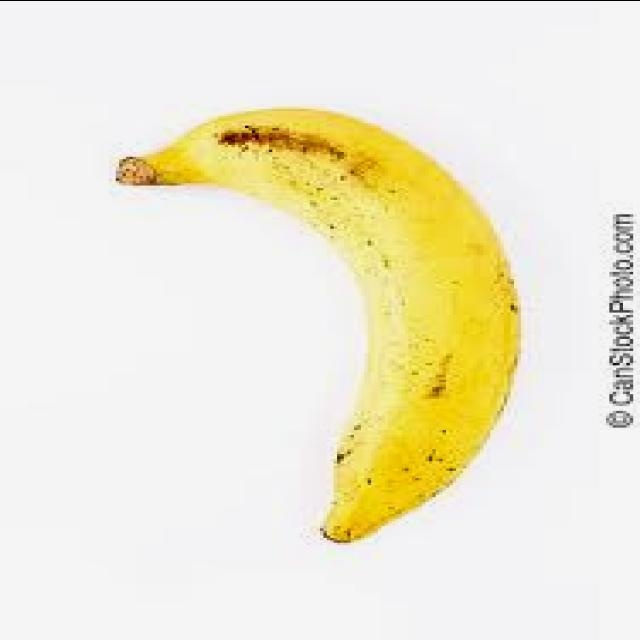agrume: (114, 103, 526, 541)
